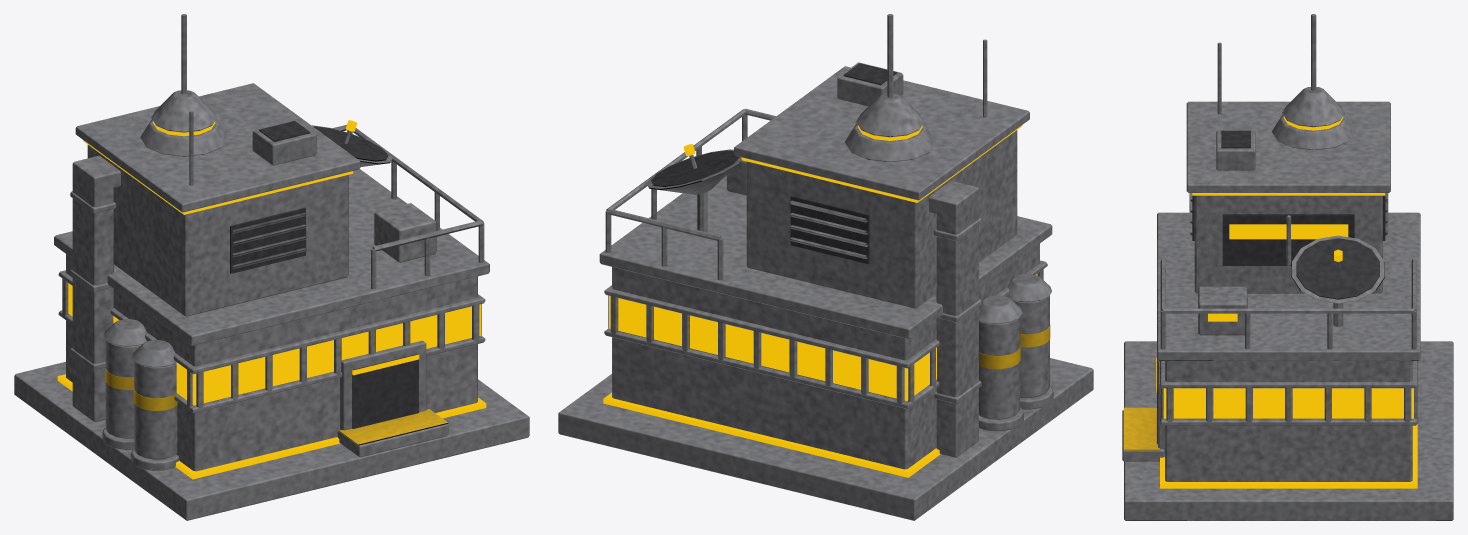
File: nodexeus-lab.glb
3 renders of one model, left to right at view 1: azimuth 30°, elevation 25°; view 2: azimuth 150°, elevation 25°; view 3: azimuth 270°, elevation 25°, orthographic. The views are drawn at different scales.
Visible parts, largest first — view 1: lab; view 2: lab; view 3: lab.
Boxes of the visible parts, bbox=[...] form: lab: bbox=[14, 14, 529, 520]; lab: bbox=[558, 14, 1093, 520]; lab: bbox=[1122, 14, 1453, 520].
Size of the model in its own units: 2.33 by 2.62 by 2.01.
Materials: 1 (1 with a texture image).
